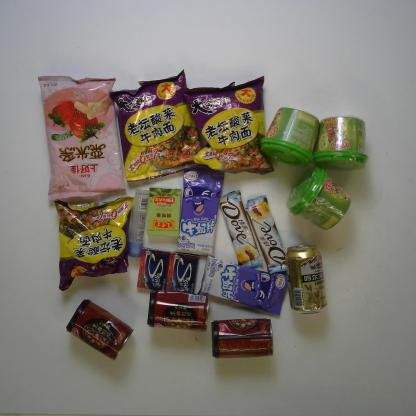Alcohol: (285, 241, 327, 316)
Candy: (198, 252, 289, 316), (178, 163, 225, 260), (145, 187, 183, 240)
Canned Food: (65, 299, 133, 361), (146, 289, 212, 333), (210, 317, 276, 360)
Chocolate: (243, 194, 295, 275), (218, 188, 264, 271)
Gum: (136, 245, 172, 294), (167, 249, 201, 296)
Instant Drink: (285, 166, 353, 234), (258, 103, 320, 170), (314, 113, 371, 172)
Instant Noodles: (107, 70, 205, 183), (178, 76, 278, 178), (50, 195, 134, 292)
Puffed Food: (36, 69, 128, 203)
Stationery: (126, 187, 149, 261)
